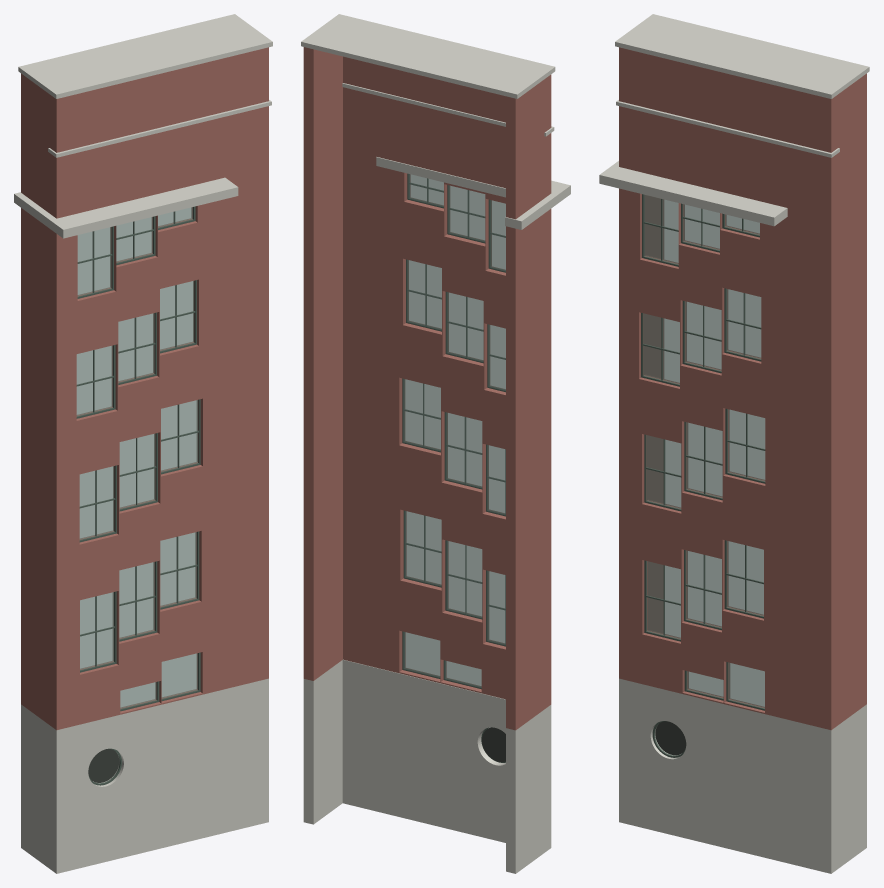
Rendered from full-source.glb.
3 renders of one model, left to right at view 1: azimuth 30°, elevation 25°; view 2: azimuth 150°, elevation 25°; view 3: azimuth 330°, elevation 25°, orthographic.
Visible parts, largest first — view 1: 私立妇孺医院旧院临街楼梯间与阶梯钢窗; view 2: 私立妇孺医院旧院临街楼梯间与阶梯钢窗; view 3: 私立妇孺医院旧院临街楼梯间与阶梯钢窗.
Part boxes in pixels (x1=…): 私立妇孺医院旧院临街楼梯间与阶梯钢窗: x1=14, y1=14, x2=272, y2=873; 私立妇孺医院旧院临街楼梯间与阶梯钢窗: x1=301, y1=14, x2=570, y2=873; 私立妇孺医院旧院临街楼梯间与阶梯钢窗: x1=599, y1=14, x2=869, y2=873.
Bounding box in the file's own units: 5.15 × 17.4 × 1.99.
